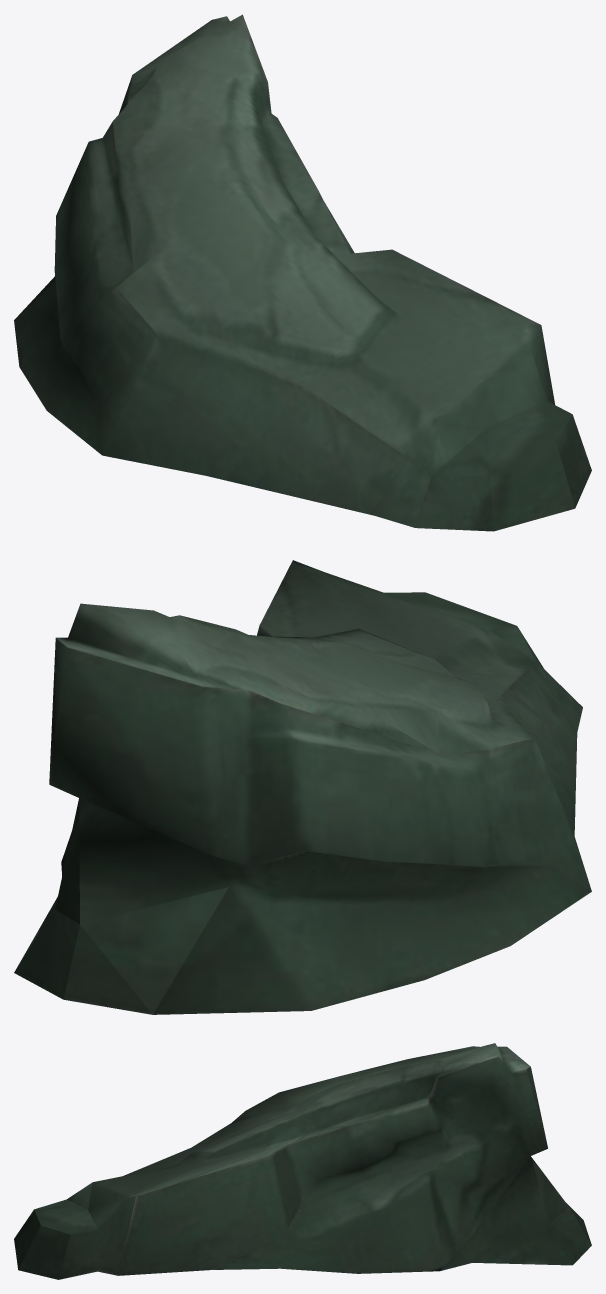
The model's file is Moba_st04.FBX.
3 renders of one model, top to bottom at view 1: azimuth 30°, elevation 25°; view 2: azimuth 150°, elevation 25°; view 3: azimuth 270°, elevation 25°, orthographic. The views are drawn at different scales.
Parts seen in each view (by area): view 1: Moba_st04; view 2: Moba_st04; view 3: Moba_st04.
Boxes of the visible parts, <box> form: Moba_st04: <box>14,14,591,531</box>; Moba_st04: <box>14,560,591,1014</box>; Moba_st04: <box>14,1043,591,1279</box>.
Size of the model in its own units: 2.36 by 1.76 by 4.4.
1 material, 1 textured.
